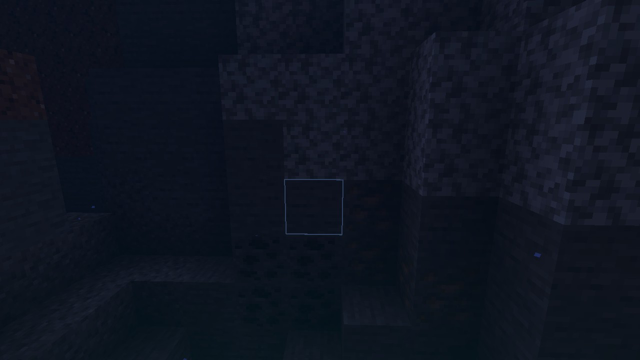coal: (232, 235, 342, 354)
iron: (344, 180, 490, 360)
